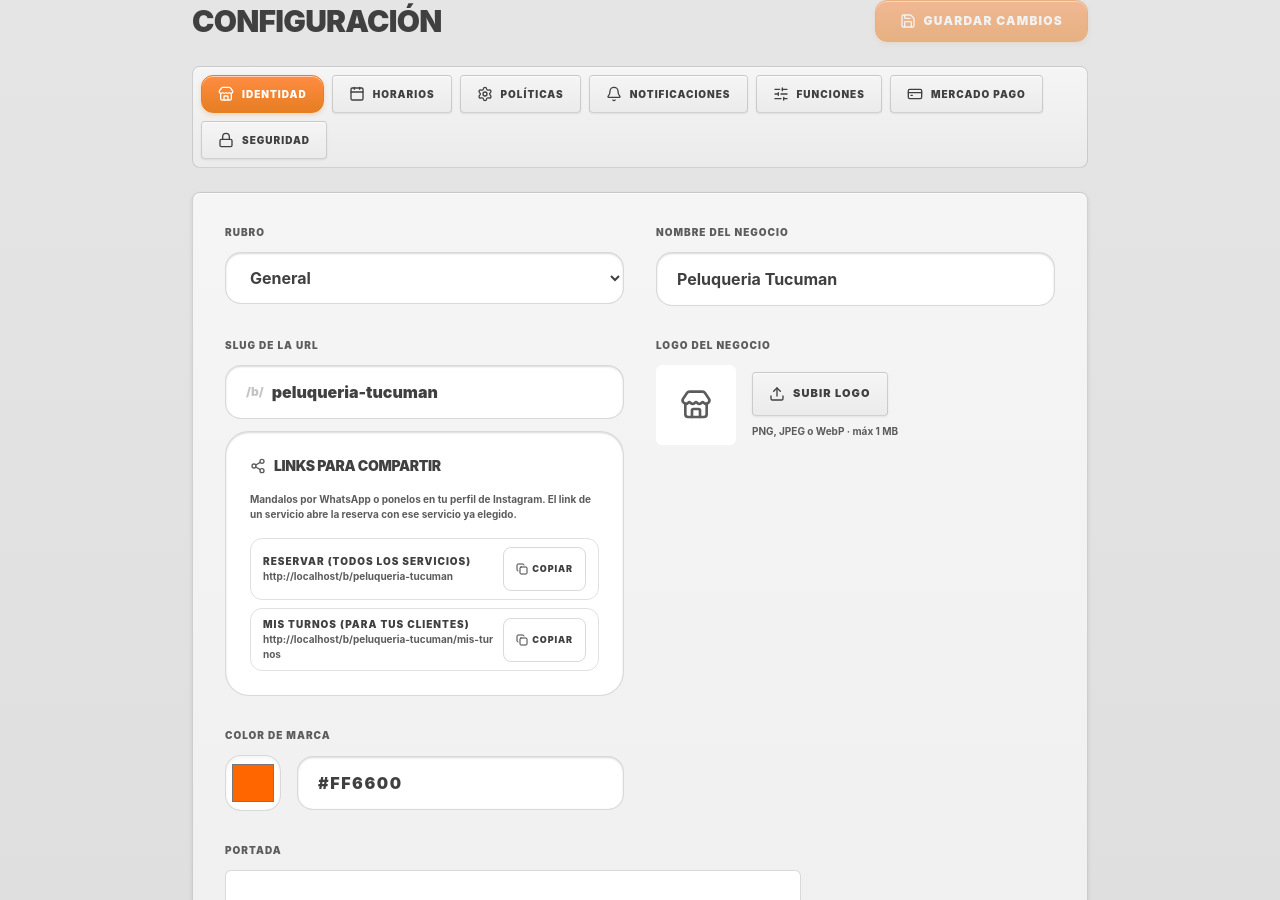
Test: SettingsPage - dia legado con varios periodos › muestra los dos, frena el guardado con el motivo y "Conservar este" deja uno
Step 1. Click the button "Horarios" → coordinates (392, 94), box [332,75,452,113]
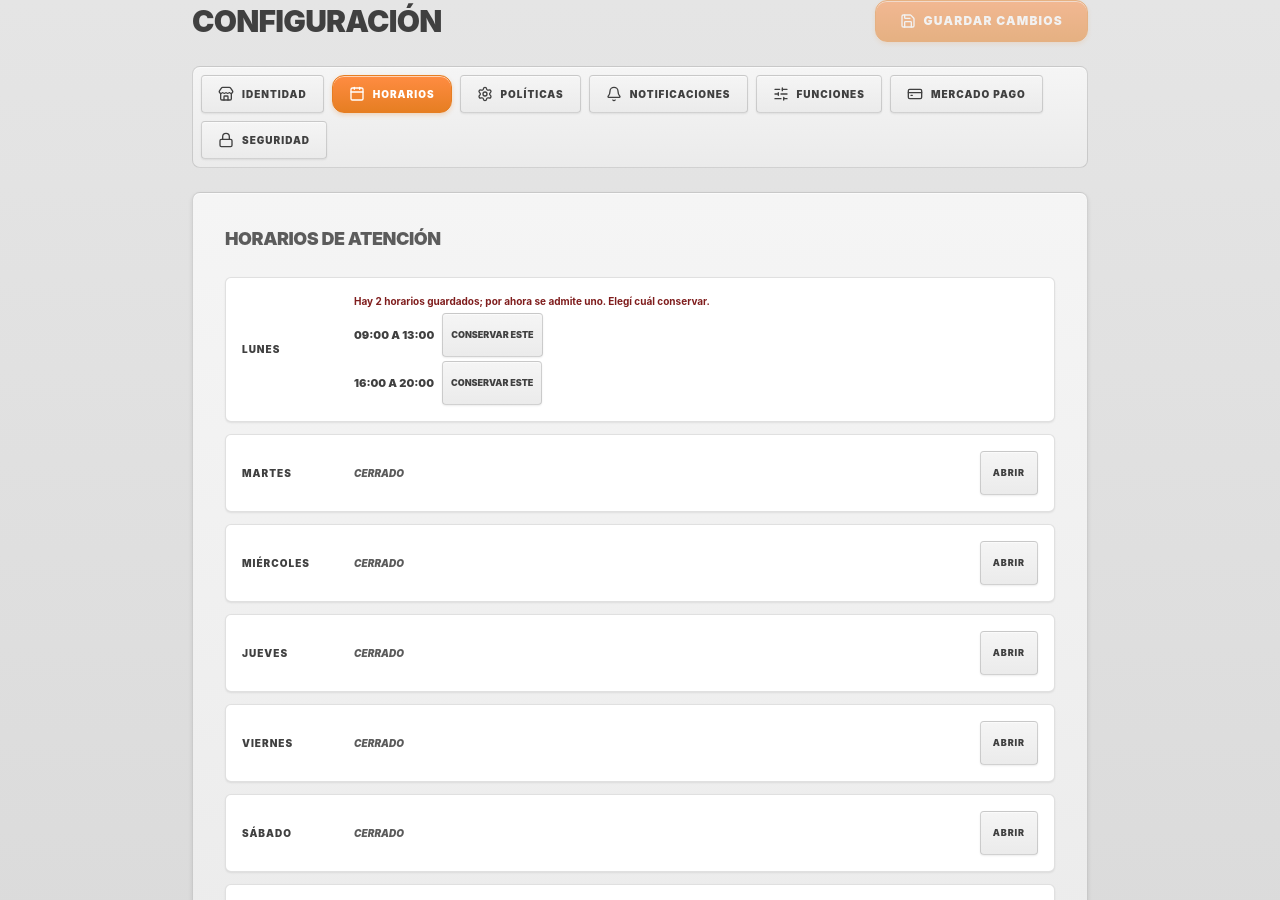
Expected: the text "09:00 A 13:00" is shown, [354,327,434,343]
Expected: the text "16:00 A 20:00" is shown, [354,375,434,391]
# Tocar OTRO dia reenvia el lunes legado: el guardado se frena.
Step 2. Click the button with aria-label "Abrir Martes" → coordinates (1009, 473), box [980,451,1038,495]
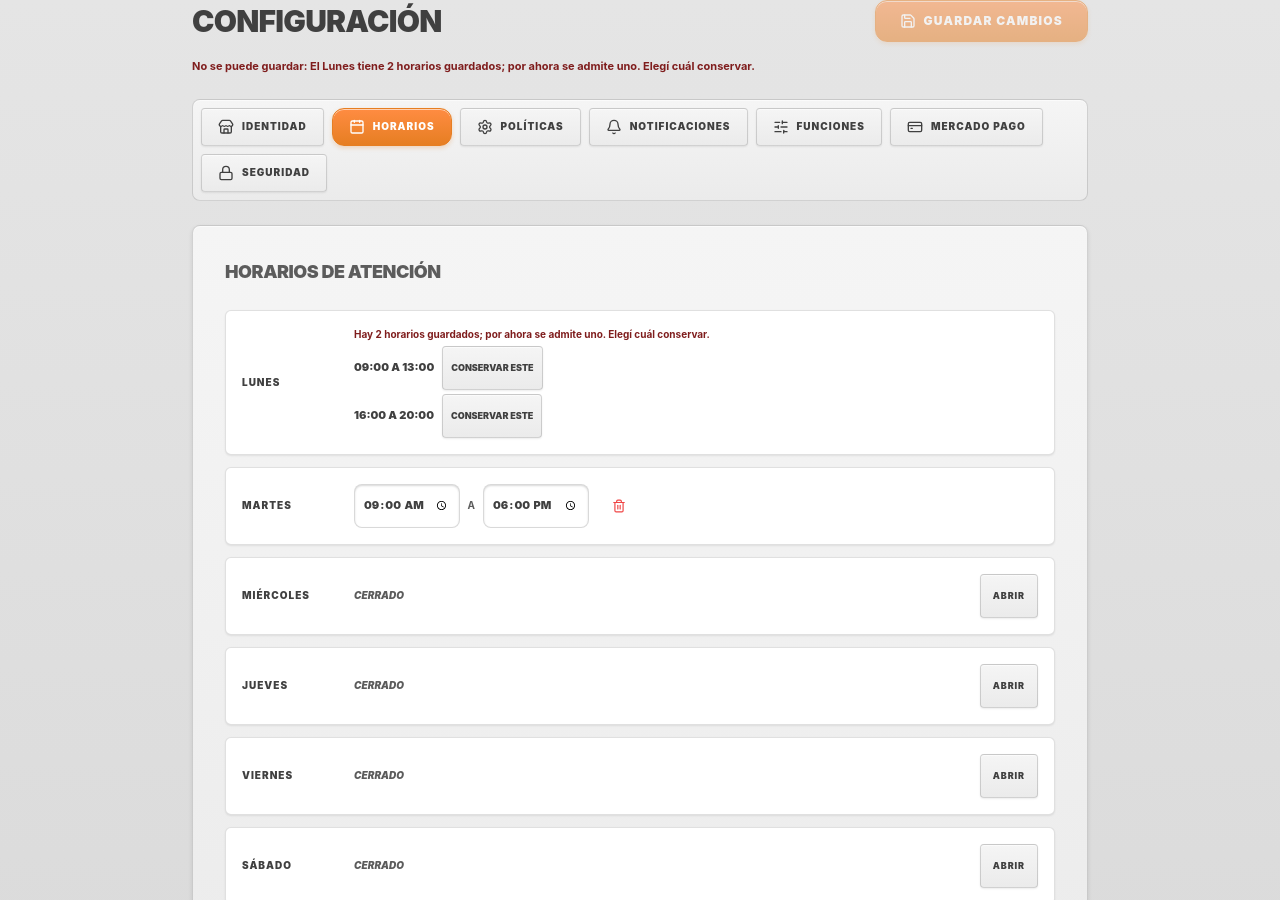
Expected: the button "Guardar Cambios" is disabled, [874,0,1088,42]
Expected: the text "El Lunes tiene 2 horarios guardados" is shown, [310,59,755,73]
Step 3. Click the button with aria-label "Conservar 16:00 a 20:00 el Lunes" → coordinates (492, 416), box [442,394,542,438]
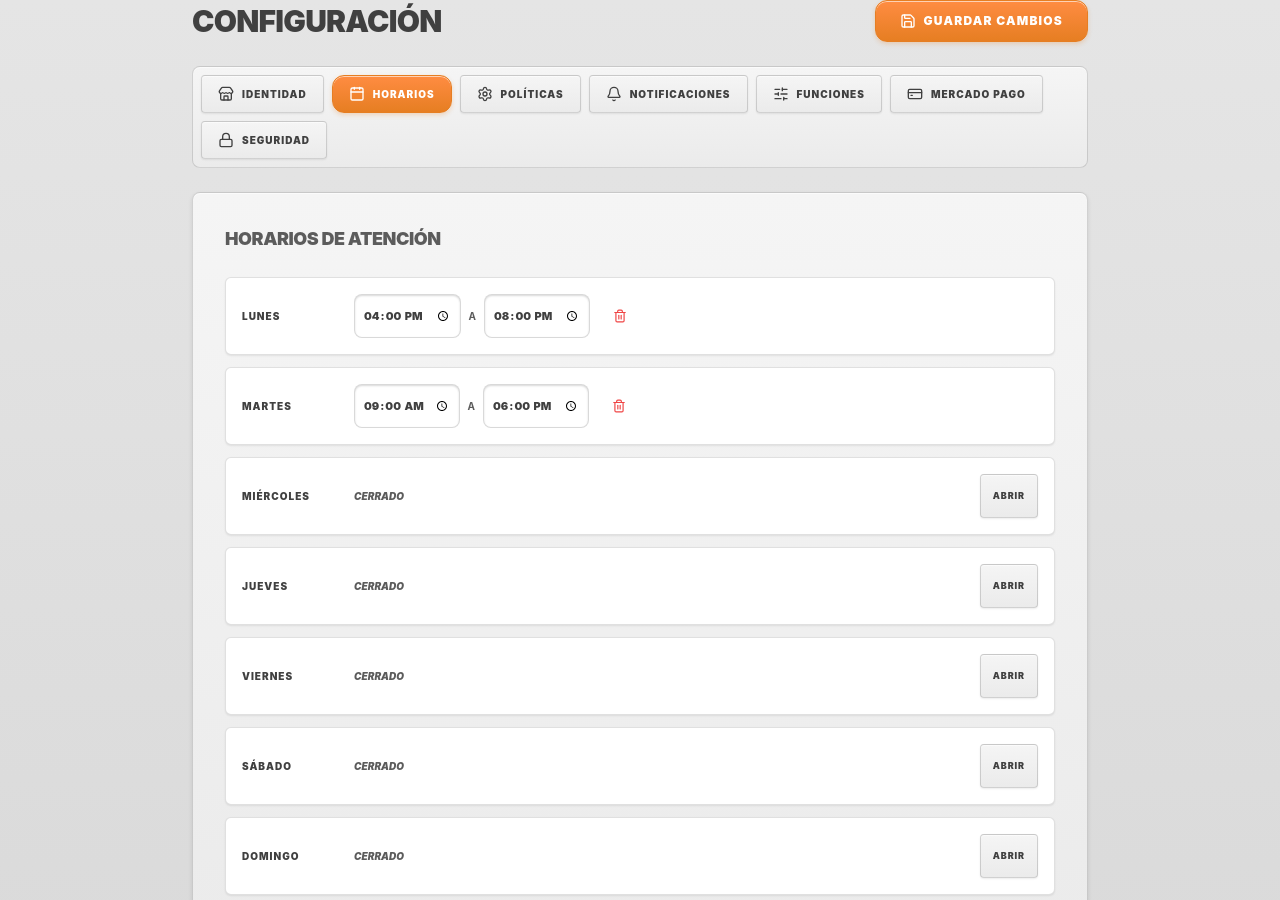
Expected: the time field named "Apertura Lunes" holds "16:00", [354,294,460,338]
Expected: the button "Guardar Cambios" is enabled, [874,0,1088,42]
